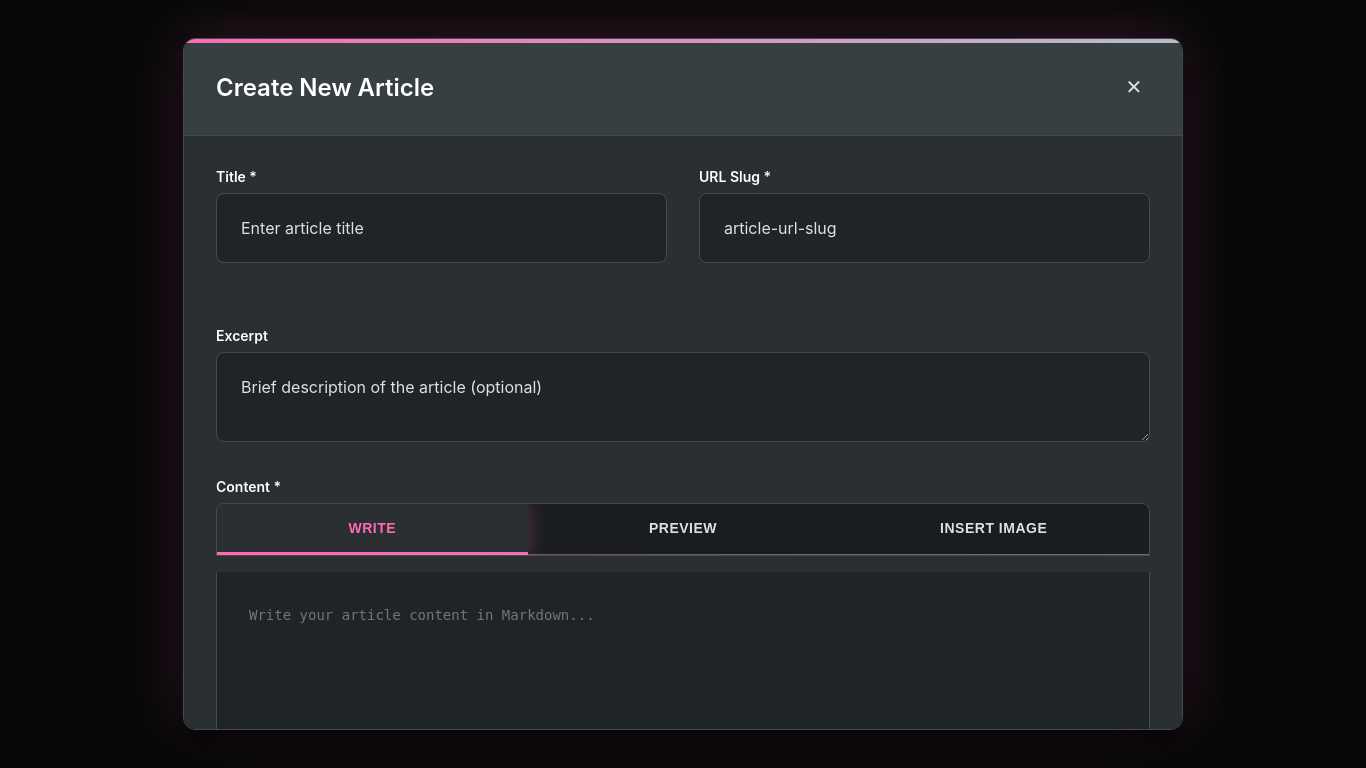
Test case: ArticleEditor › Unified Insert Modal › opens unified insert modal when Insert Image button clicked
# Click Insert Image button
Click the button with class "insert-image-button": (994, 530) 838,504 -> 1149,555
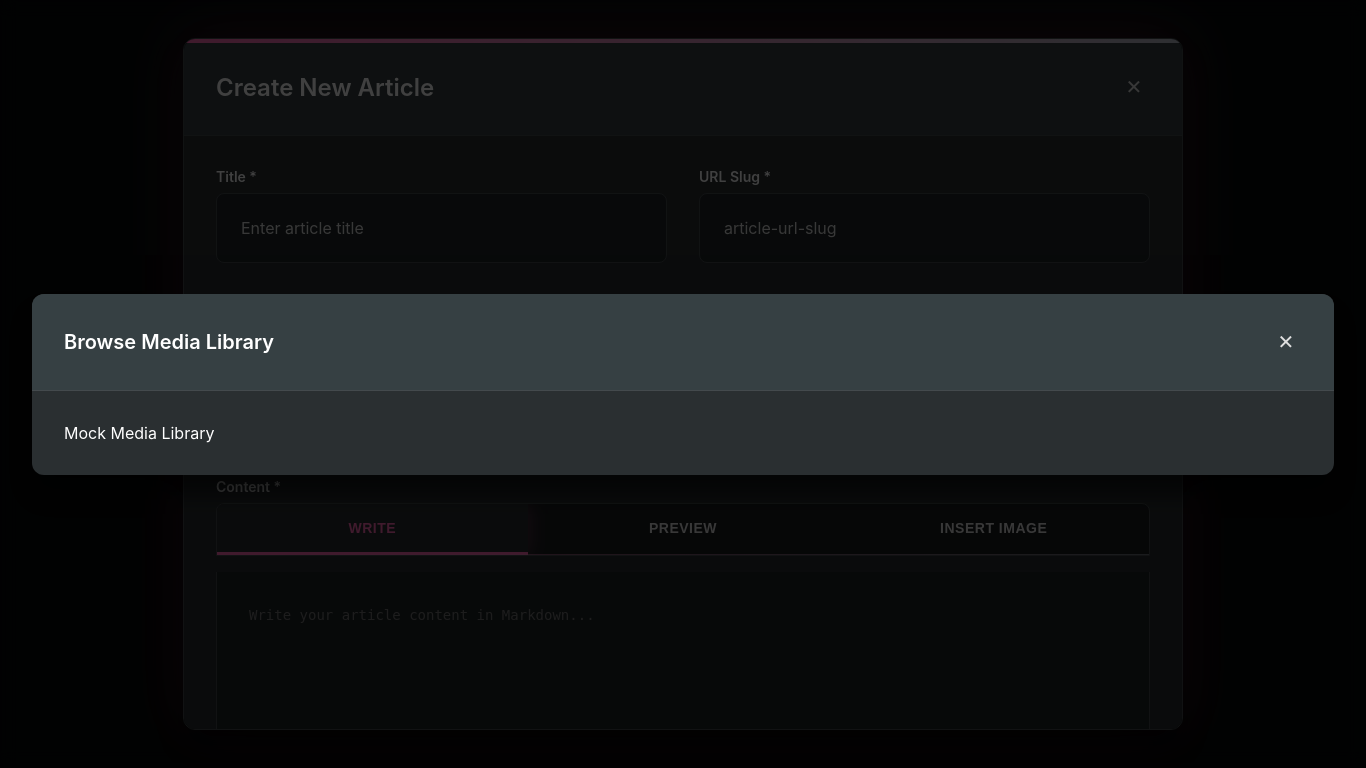
Expected: the element with class "image-modal-overlay" is shown
Expected: the text "Browse Media Library" is shown, 64,330 -> 274,354
Expected: the text "Mock Media Library" is shown, 64,422 -> 214,442
